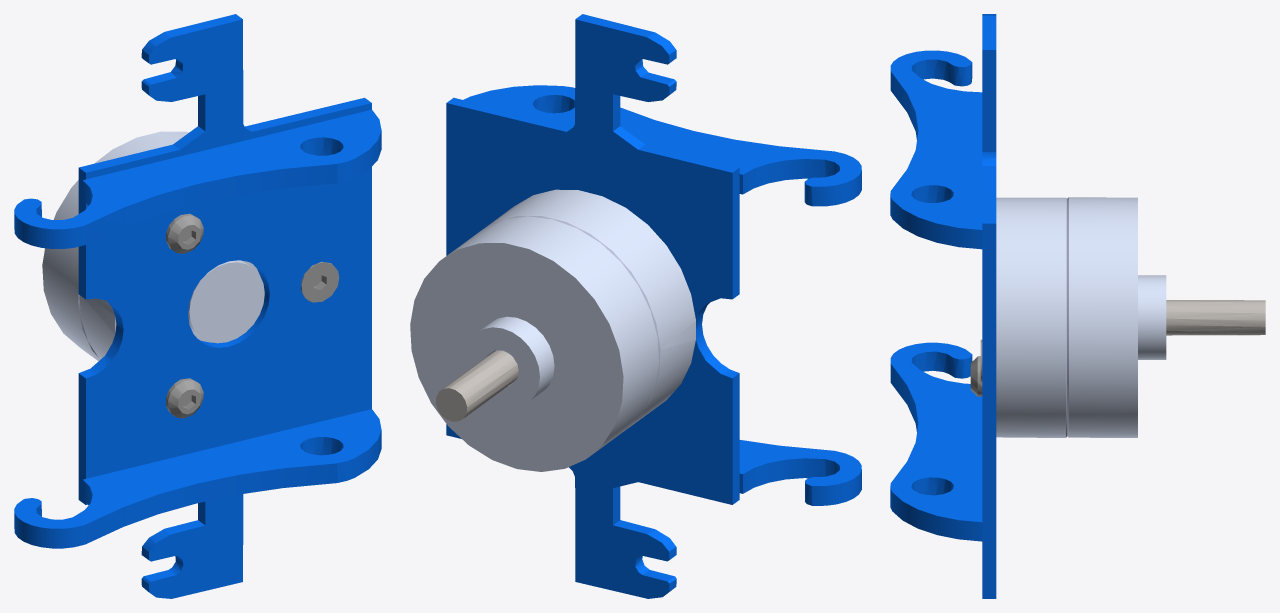
File: gripper_mount_visuals_Mesh.obj
3 renders of one model, left to right at view 1: azimuth 30°, elevation 25°; view 2: azimuth 150°, elevation 25°; view 3: azimuth 270°, elevation 25°, orthographic. The views are drawn at different scales.
Parts seen in each view (by area): view 1: gripper_rotator_2; view 2: gripper_rotator_2; view 3: gripper_rotator_2.
Part boxes in pixels (x1=…): gripper_rotator_2: x1=14, y1=14, x2=381, y2=598; gripper_rotator_2: x1=410, y1=14, x2=861, y2=598; gripper_rotator_2: x1=890, y1=14, x2=1265, y2=598.
Bounding box in the file's own units: 0.06 × 0.0855 × 0.053.
